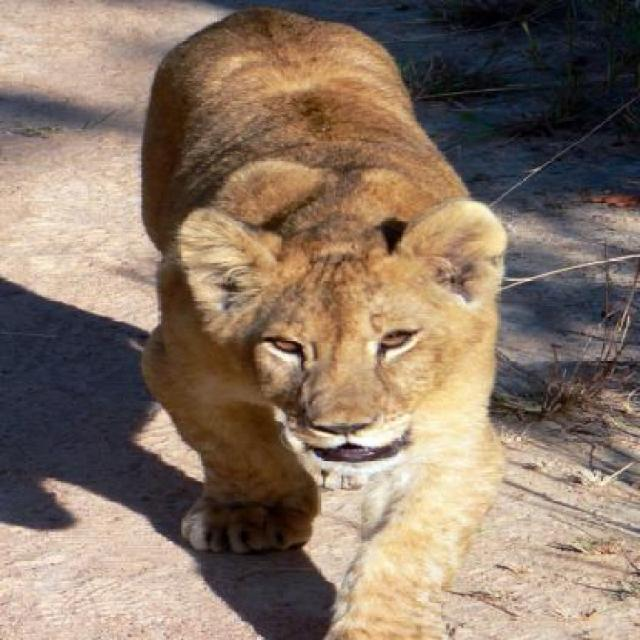Lion: (2, 15, 589, 637)
